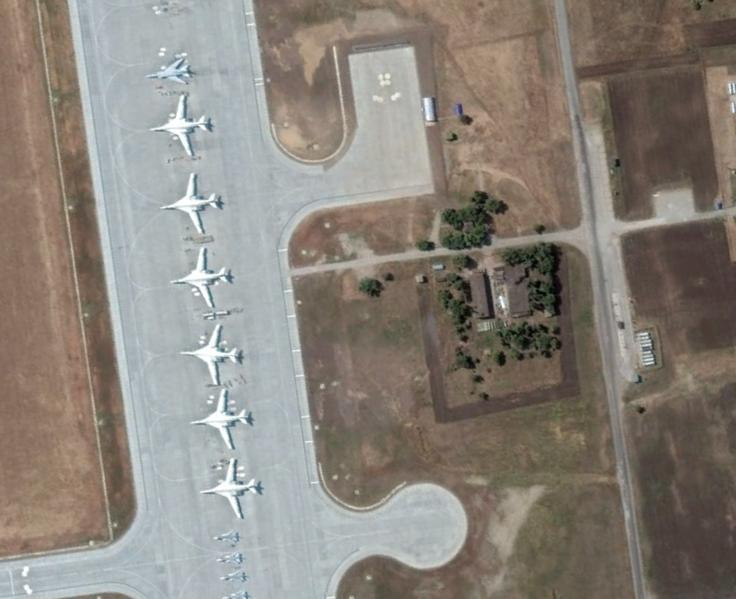A12: (142, 57, 203, 86)
A20: (215, 552, 247, 566), (220, 569, 247, 584), (214, 529, 238, 543), (220, 589, 254, 598)
A6: (141, 86, 228, 163), (149, 161, 236, 238), (158, 238, 245, 315), (167, 313, 254, 390), (179, 381, 262, 455), (190, 448, 273, 522)
